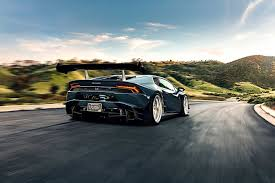Lamborghini: (67, 72, 189, 121)
